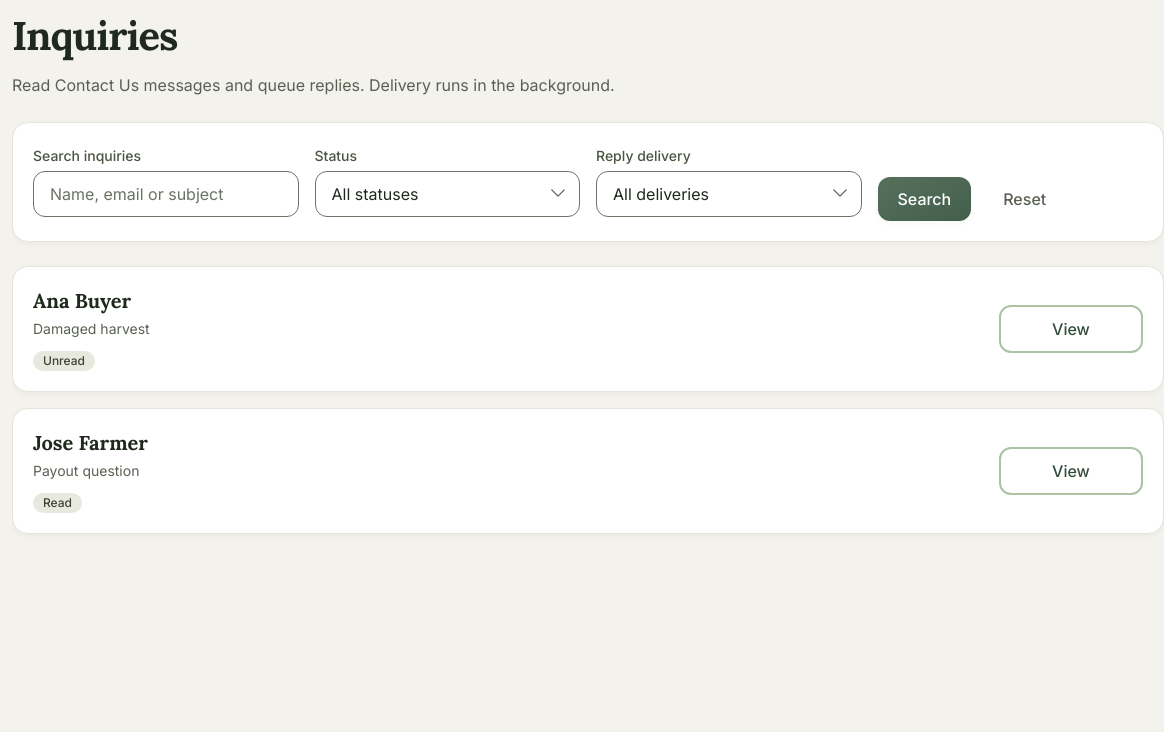
AdminInquiriesPage.vue › keeps filters across a retry
Select "Unread" in the dropdown with id "admin-inquiry-status" at (447, 194), box [314,171,580,217]
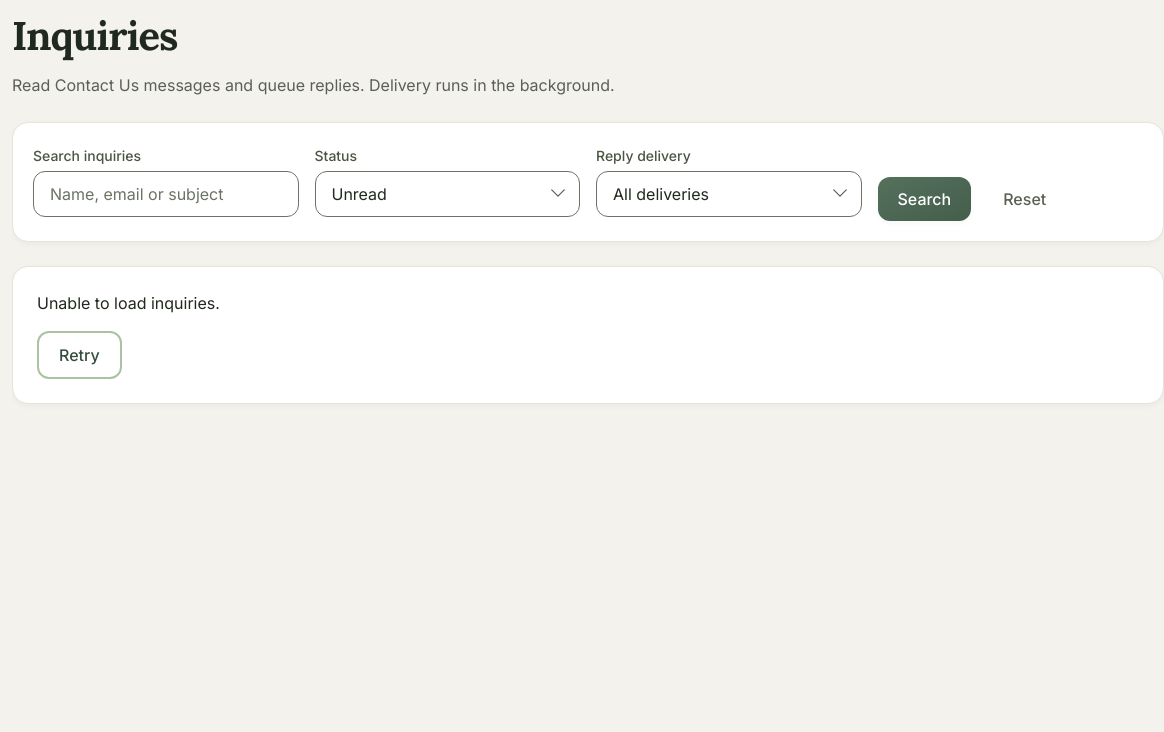
Now the text "Unable to load inquiries." is shown, box [37,293,220,313]
Click the button "Retry" at (79, 355), box [37,331,122,379]
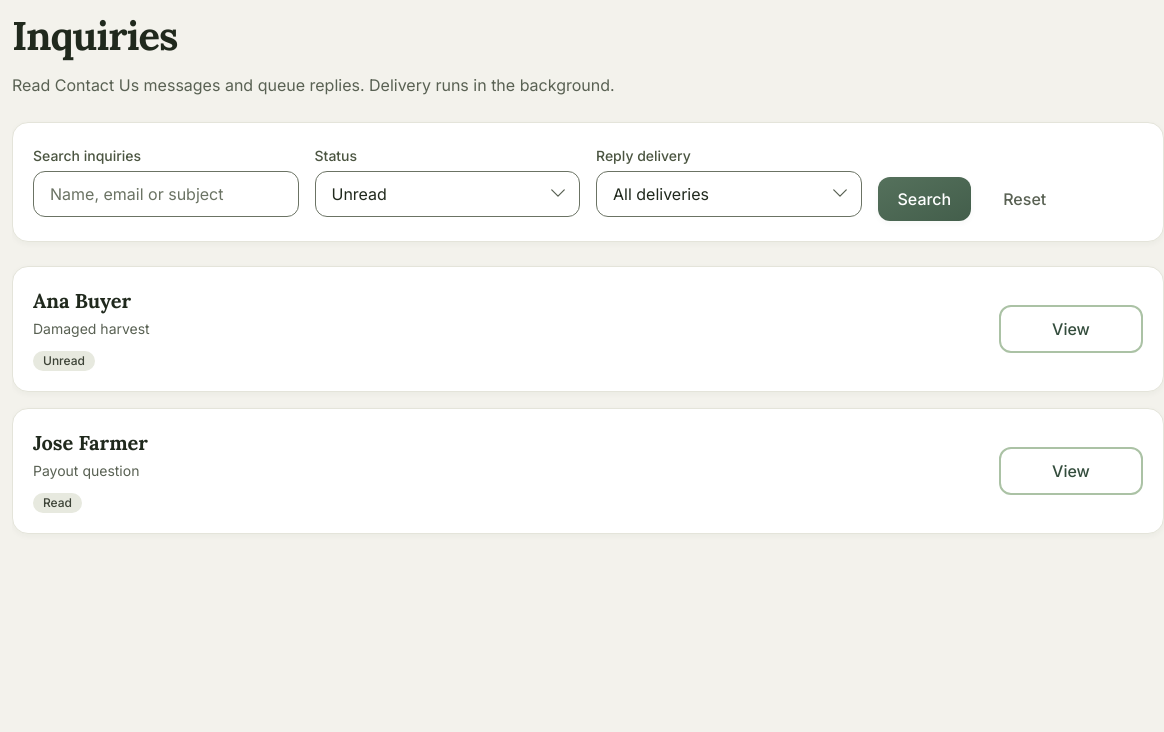
Now the text "Ana Buyer" is shown, box [33,288,131,313]
